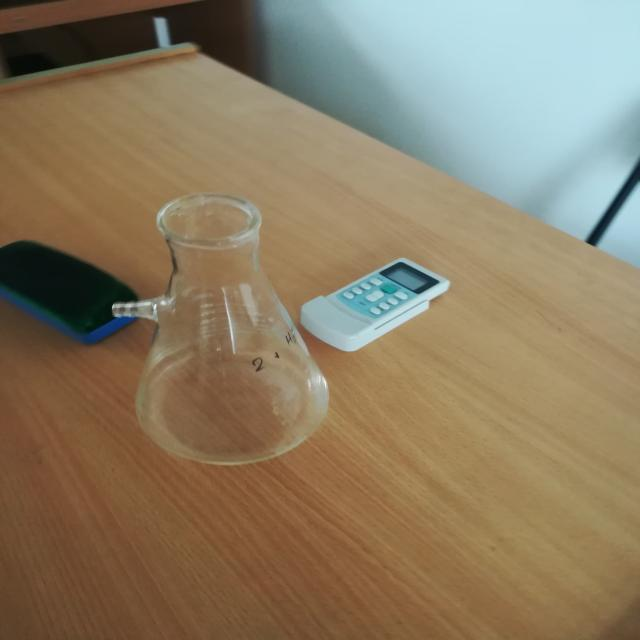Conical_Flask: (93, 147, 376, 483)
